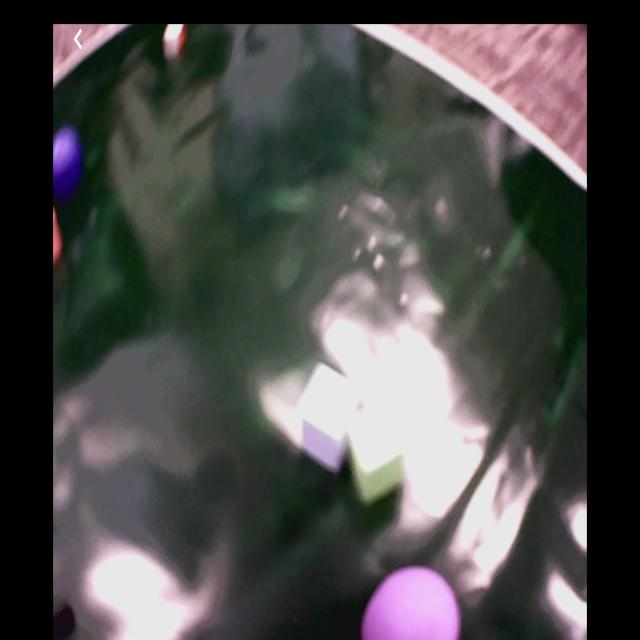ball: (360, 565, 463, 640), (55, 126, 80, 198)
